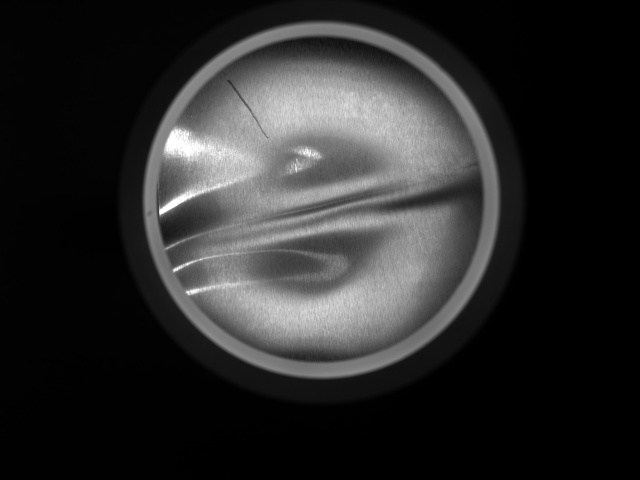ca_shang: (220, 73, 272, 139)
zhe_zhou: (201, 67, 440, 332)
